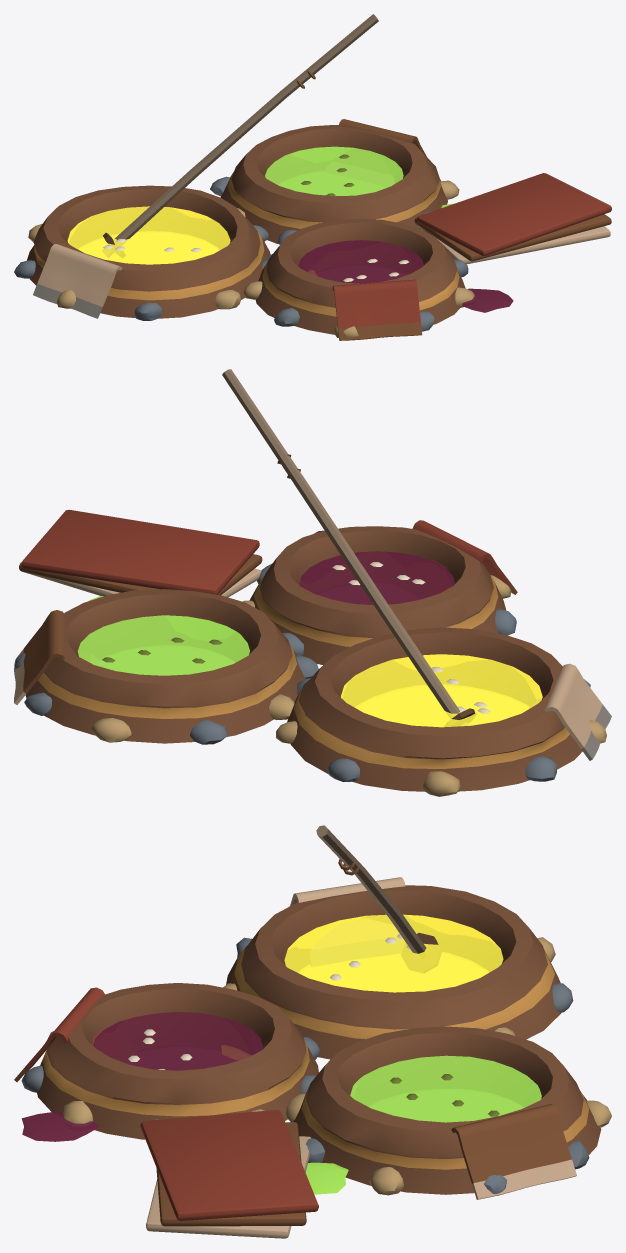
Rendered from deco_tanning_vats.fbx.
The picture shows the model from 3 angles, top to bottom: view 1: azimuth 30°, elevation 25°; view 2: azimuth 150°, elevation 25°; view 3: azimuth 270°, elevation 25°; orthographic projection. The views are drawn at different scales.
Parts seen in each view (by area): view 1: TanningVats_Vats, TanningVats_Liquids, TanningVats_HideStack, TanningVats_Hides, TanningVats_Pole; view 2: TanningVats_Vats, TanningVats_Liquids, TanningVats_HideStack, TanningVats_Hides, TanningVats_Pole; view 3: TanningVats_Vats, TanningVats_Liquids, TanningVats_HideStack, TanningVats_Hides, TanningVats_Pole.
Boxes of the visible parts, <box> form: TanningVats_Vats: <box>14,125,474,337</box>; TanningVats_Liquids: <box>67,146,513,312</box>; TanningVats_HideStack: <box>414,173,611,264</box>; TanningVats_Hides: <box>33,119,426,340</box>; TanningVats_Pole: <box>103,14,378,256</box>; TanningVats_Vats: <box>14,526,606,796</box>; TanningVats_Liquids: <box>77,530,542,727</box>; TanningVats_HideStack: <box>19,509,262,597</box>; TanningVats_Hides: <box>14,520,611,760</box>; TanningVats_Pole: <box>222,369,475,726</box>; TanningVats_Vats: <box>21,885,611,1195</box>; TanningVats_Liquids: <box>21,914,541,1194</box>; TanningVats_HideStack: <box>140,1110,318,1238</box>; TanningVats_Hides: <box>14,877,576,1199</box>; TanningVats_Pole: <box>316,825,438,965</box>.
Size of the model in its own units: 380 by 161 by 290.
